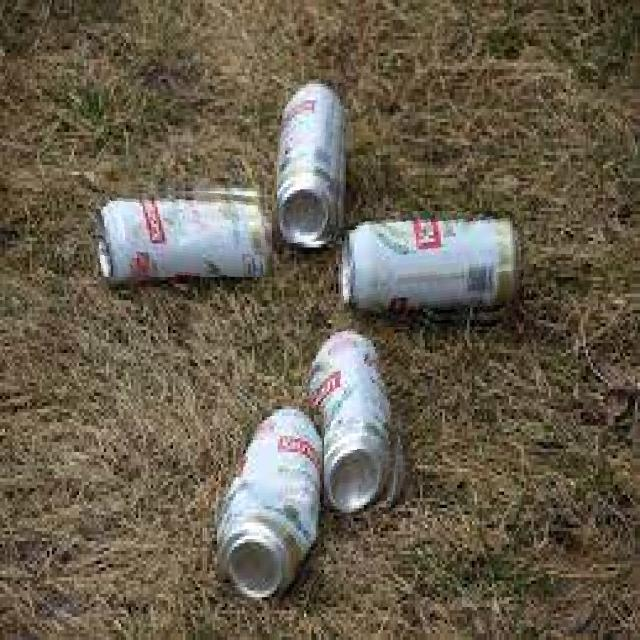Cans: (338, 211, 524, 330), (202, 406, 324, 587), (302, 327, 410, 521), (79, 182, 272, 277), (277, 79, 346, 244)
